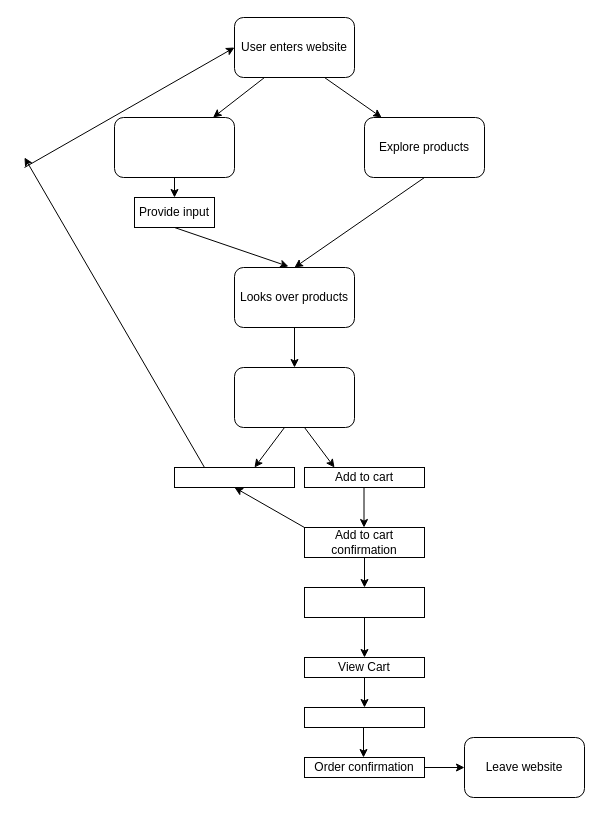
Image size: 602x815. Some labels were removed from this diagram. The box of each missing label's shape, as (x1, y1, x2, y2) in pixels:
Checkout: (304, 586, 424, 618)
Continue shopping: (174, 466, 294, 488)
Search for products: (114, 116, 234, 178)
View Payment: (304, 706, 424, 728)
View specific product: (234, 366, 354, 428)
